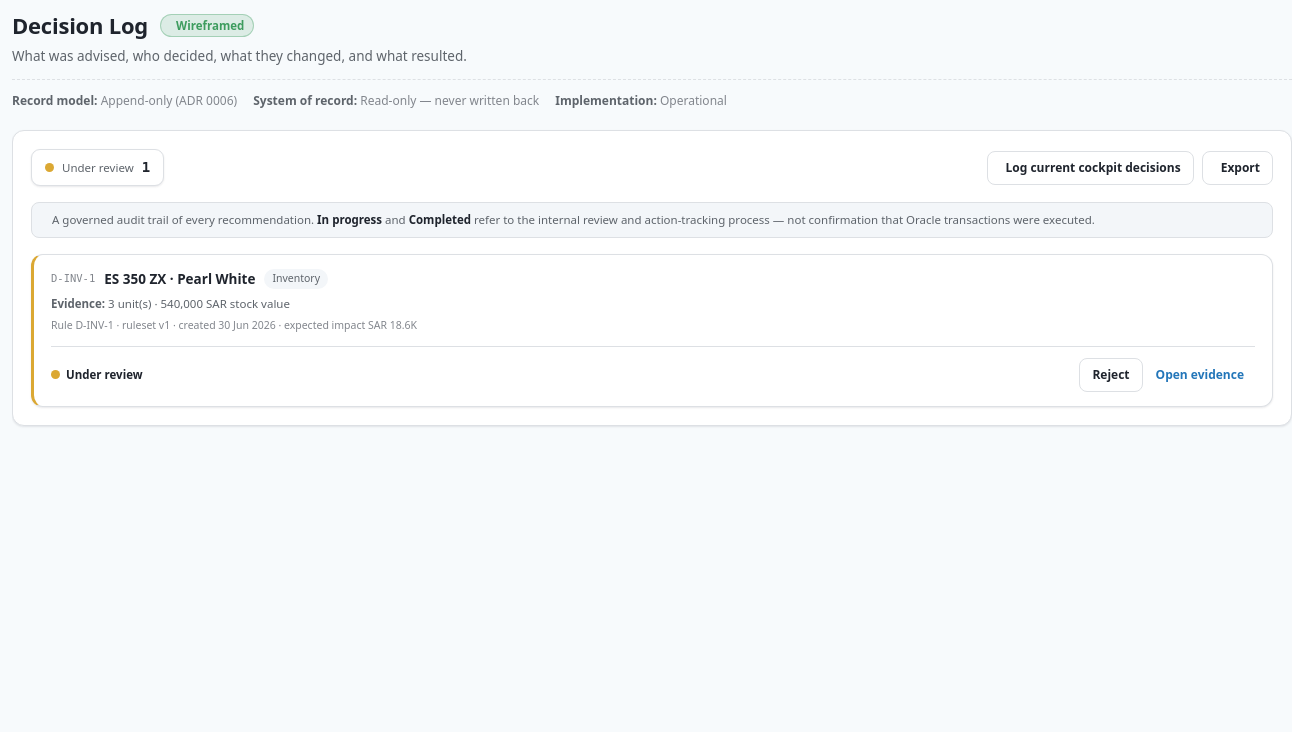
Decision Log — rejecting › blocks a rejection with no reason client-side
The image size is (1292, 732).
Note: Two controls share the word: the row action that opens the form, and the form's submit.
Click the button "Reject" at (1111, 375), box [1079, 358, 1142, 392]
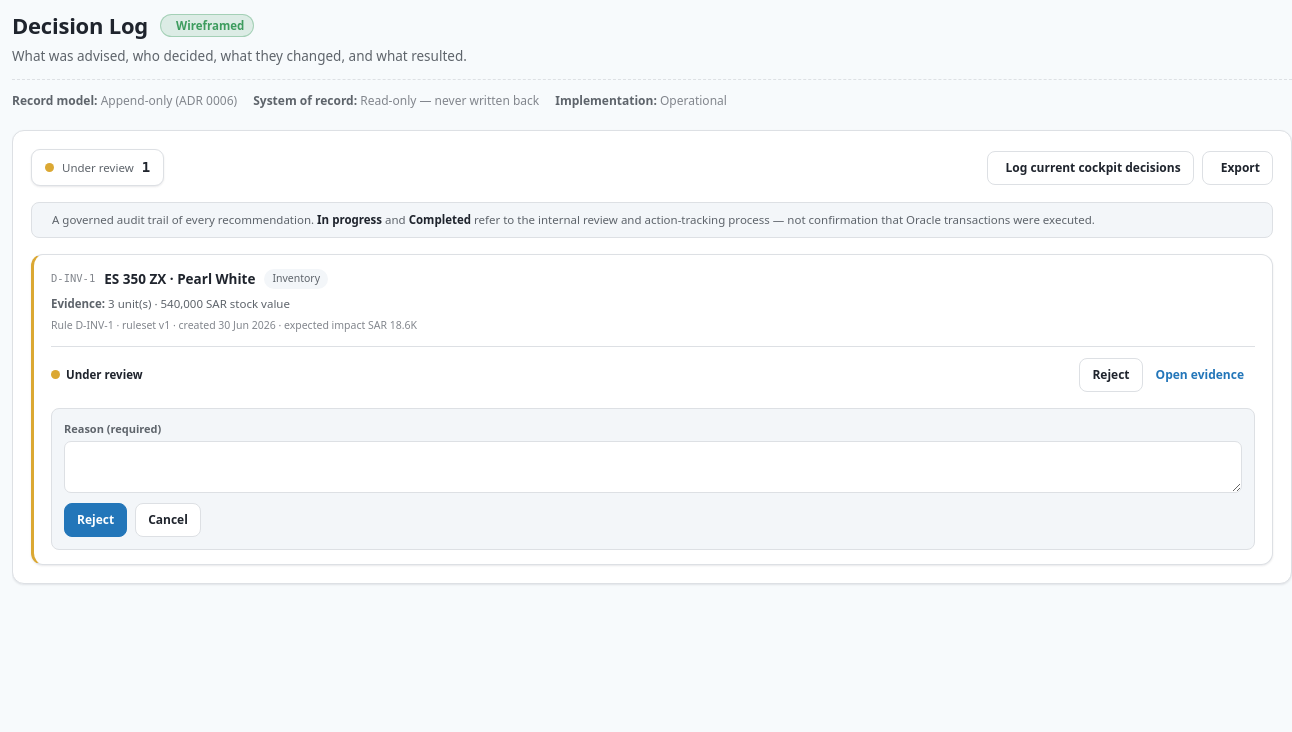
Submit the form labelled "Reason (required) Reject Cancel", box [51, 408, 1255, 550]
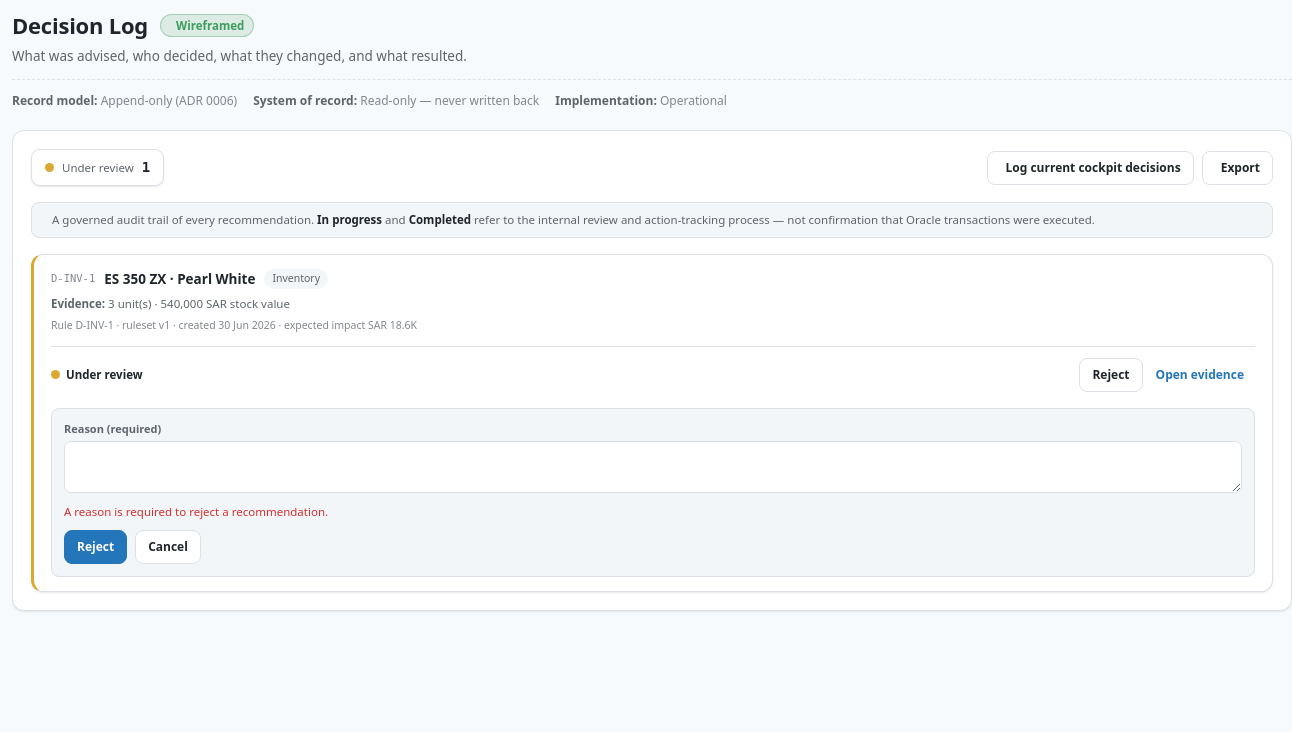
Result: the message shows "reason is required" at [64, 504, 328, 519]
